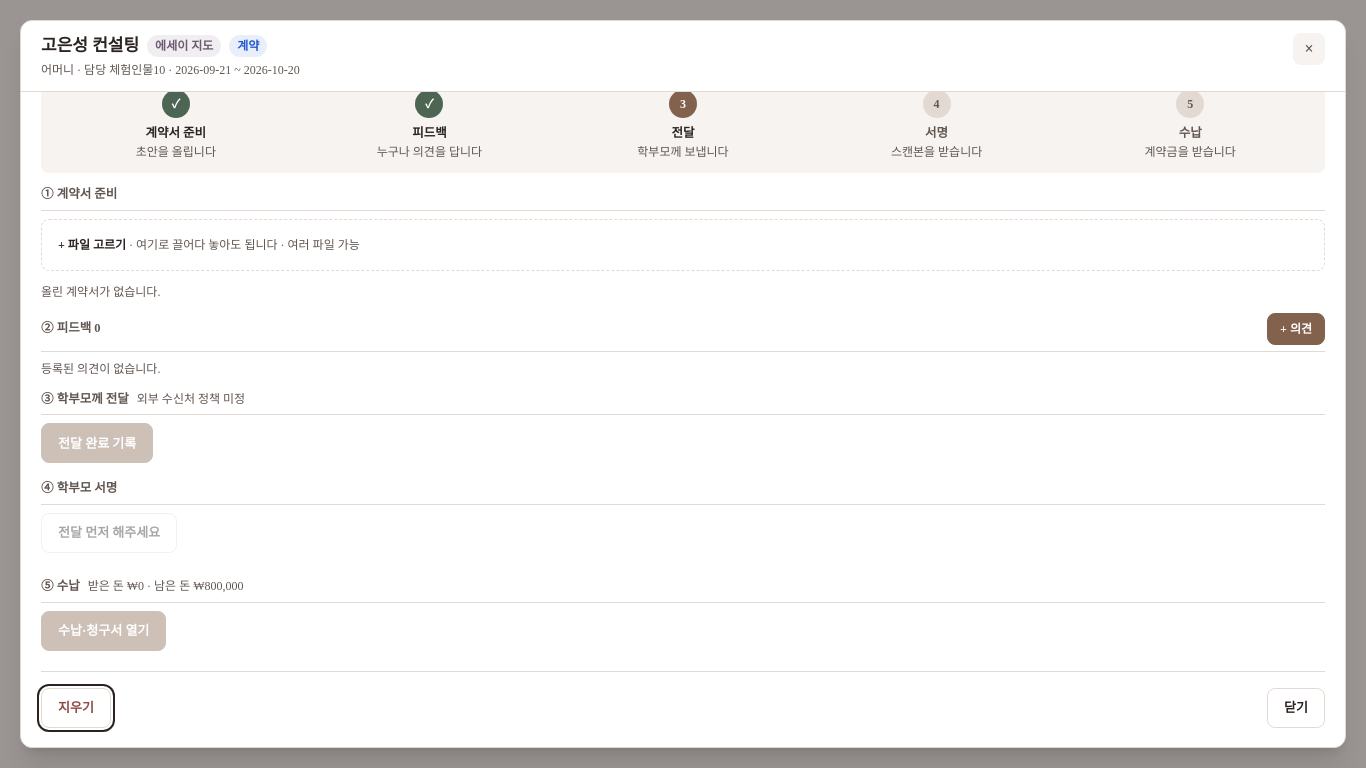
Scenario: ConsultingContractWorkflow › 중첩 보관 확인창에서 Escape 한 번은 확인창만 닫고 부모와 초점을 유지한다
(page scrolled)
Click the button "지우기". click: click(76, 708)
box: [41,688,111,728]
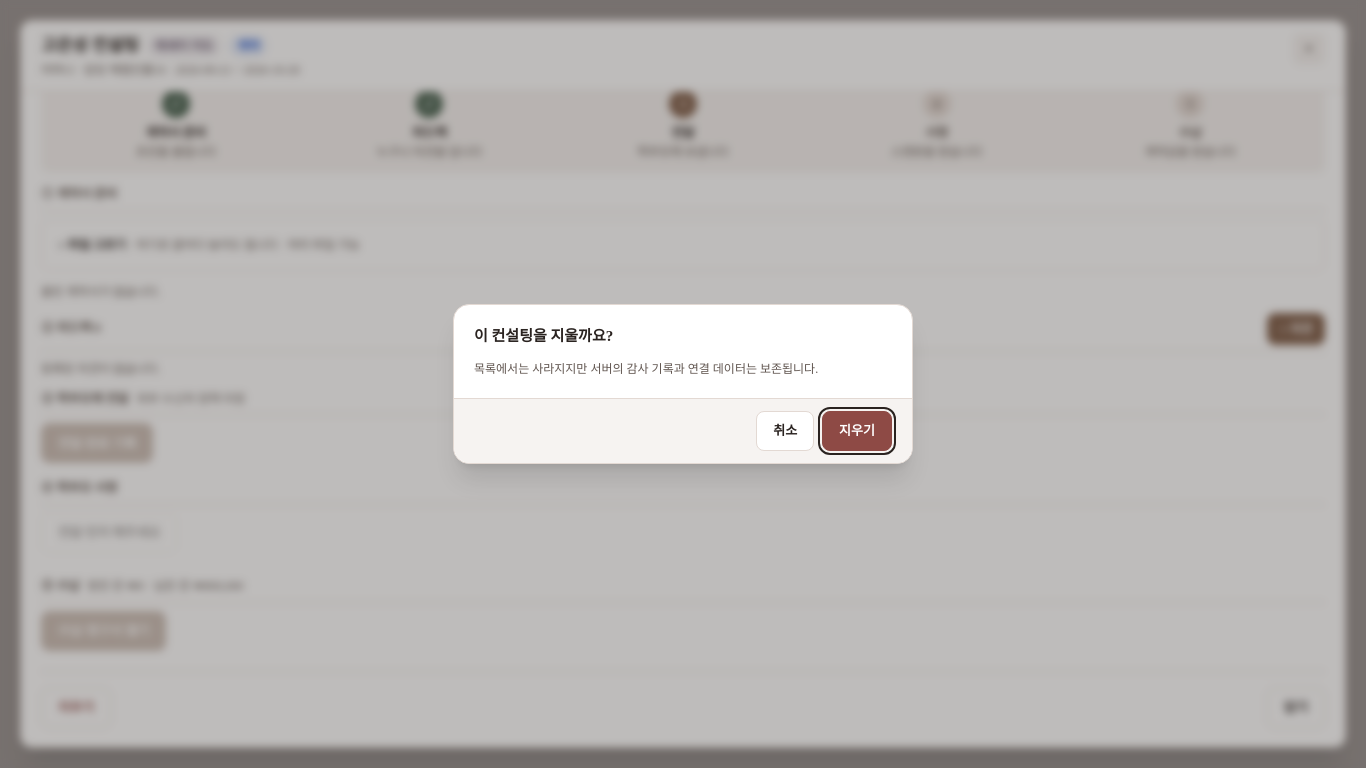
Result: the number of dialogs is 2
Press Tab
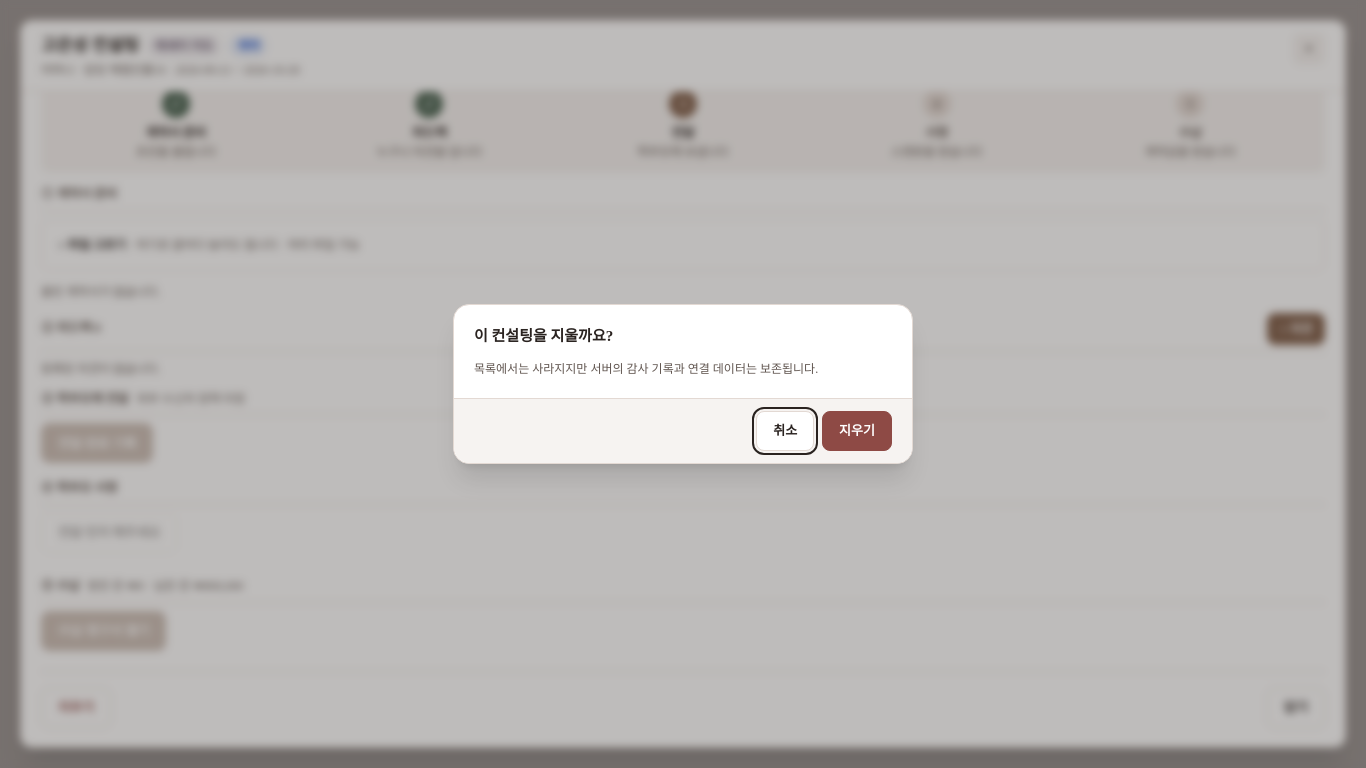
Press Tab
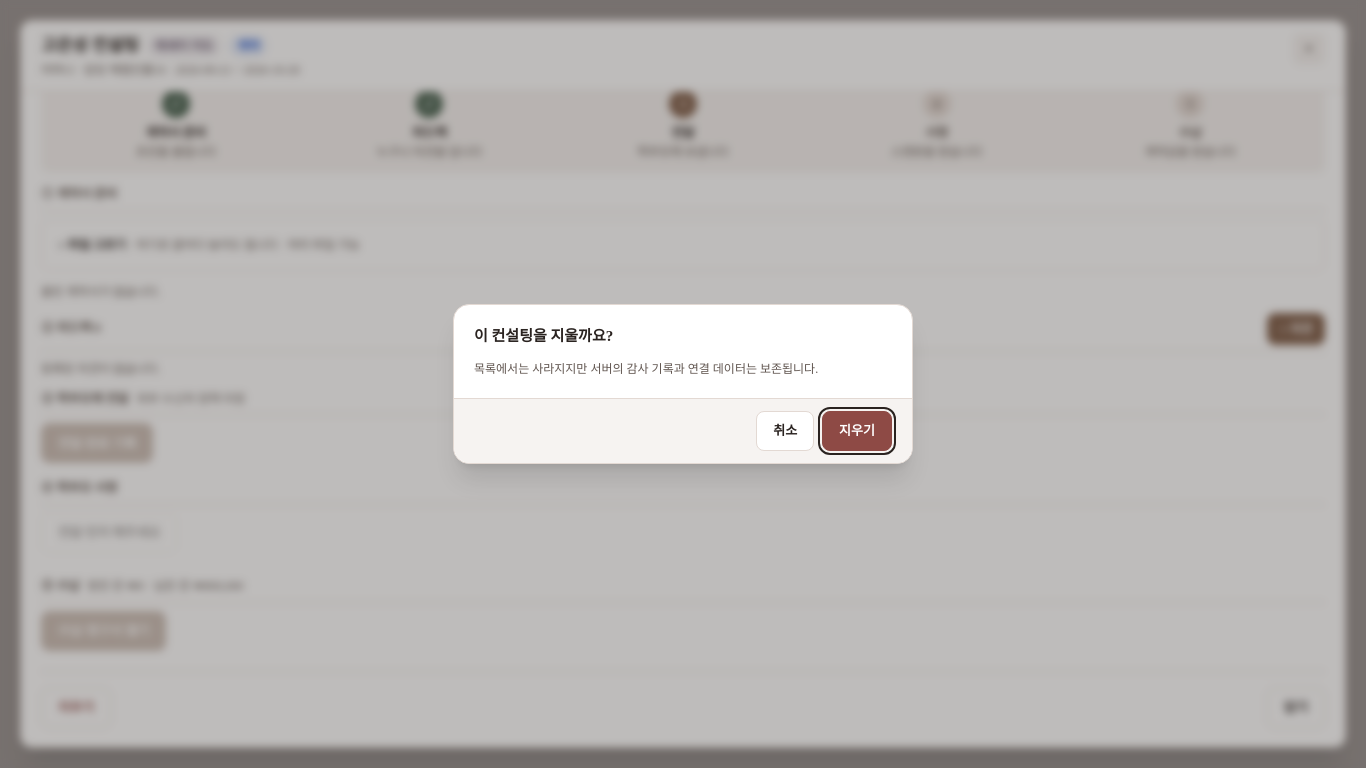
Press Escape
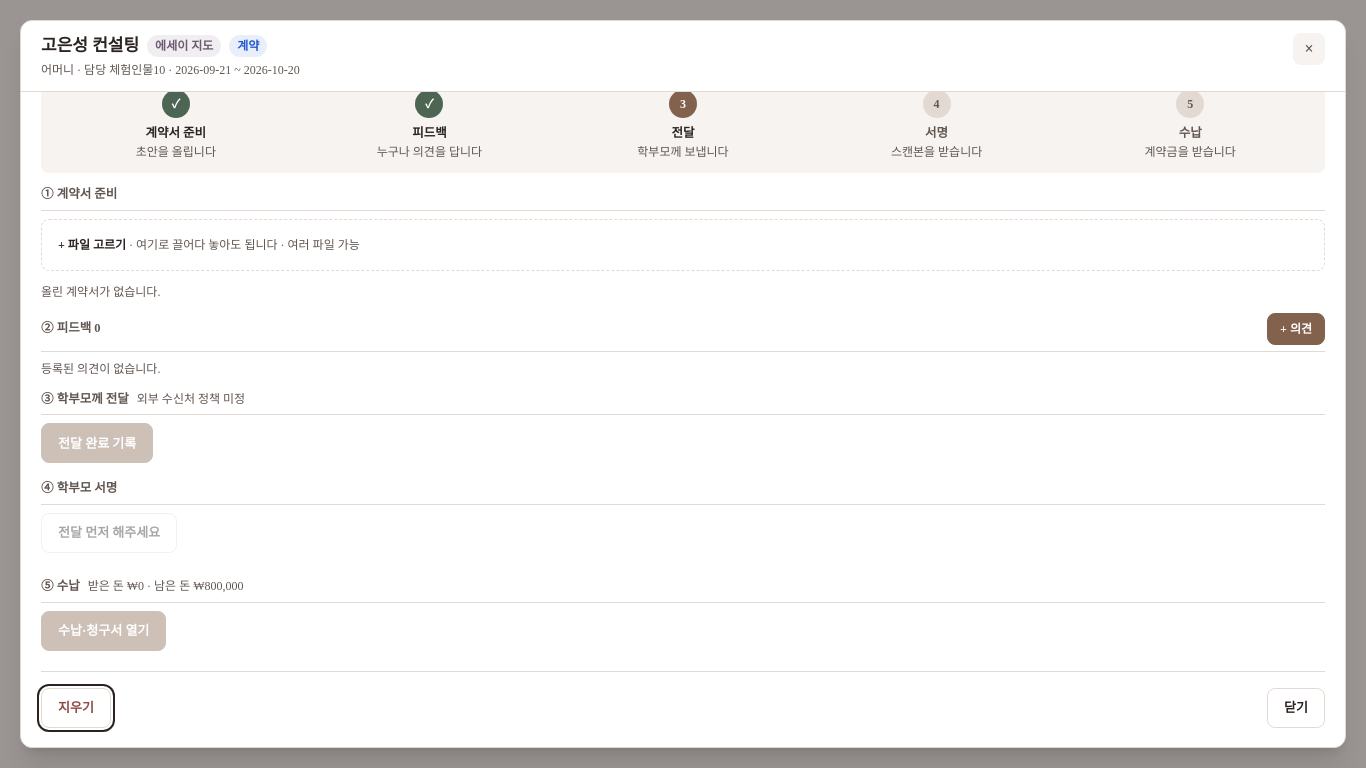
Result: the number of dialogs is 1
